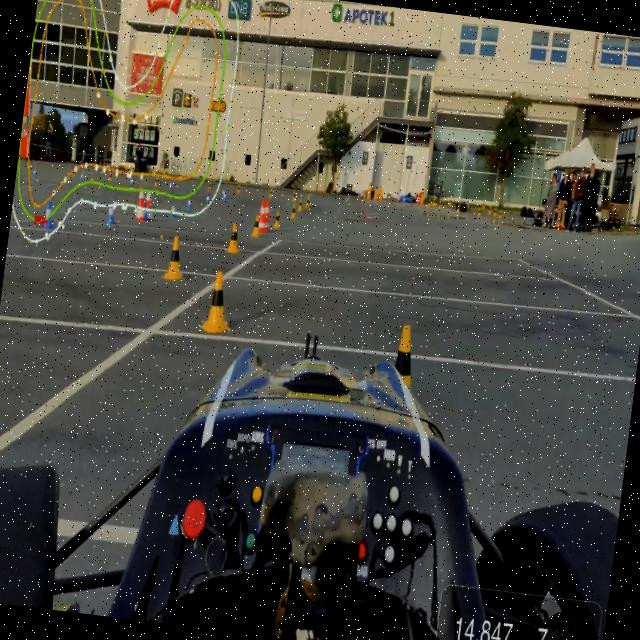yellow_cone: (370, 322, 429, 452), (200, 267, 238, 339), (160, 230, 189, 284), (222, 219, 242, 257)
